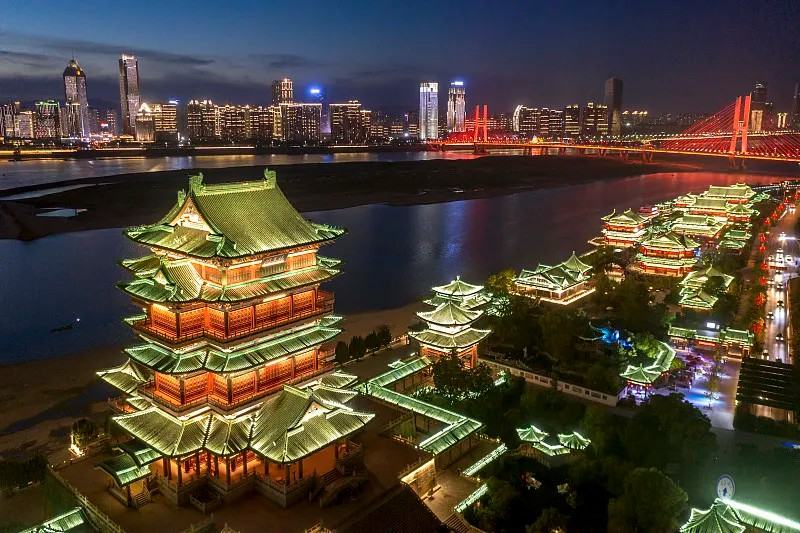Teng: (95, 171, 377, 499)
